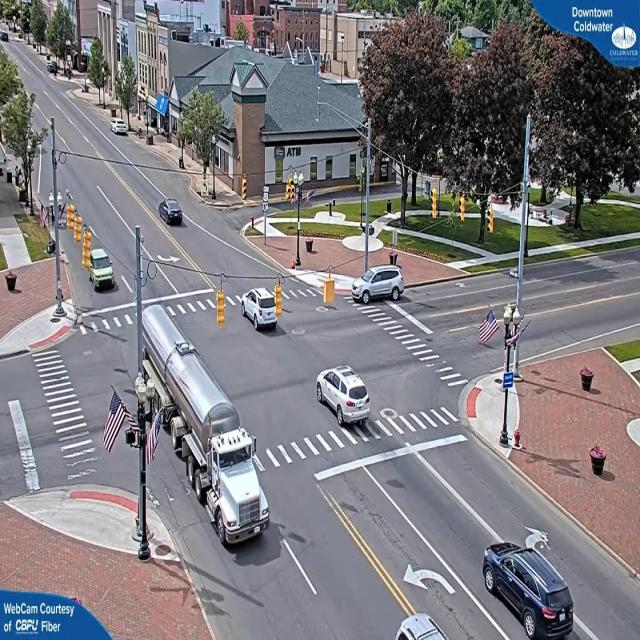car: (481, 540, 582, 638), (317, 367, 371, 425), (388, 612, 476, 640), (239, 284, 281, 330), (358, 270, 404, 306), (88, 248, 116, 291), (161, 200, 185, 227), (112, 121, 130, 138)
truck: (186, 409, 271, 545)
